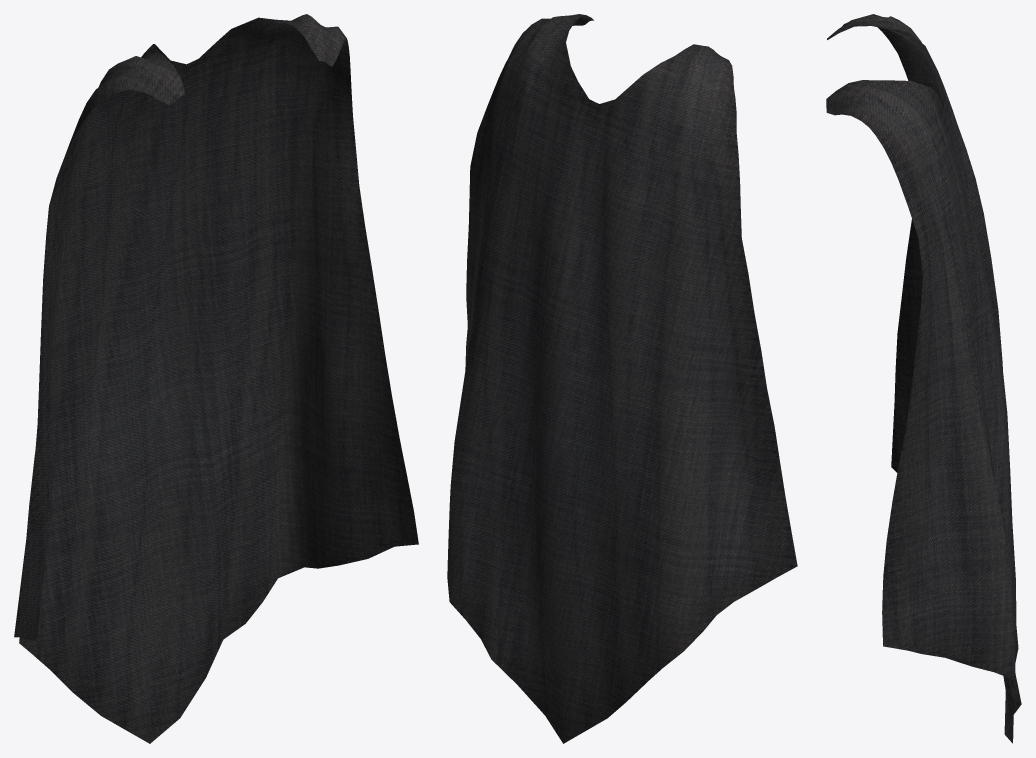
Rendered from clo_sk_northern_pauldron_cape_d.fbx.
The picture shows the model from 3 angles, left to right: view 1: azimuth 30°, elevation 25°; view 2: azimuth 150°, elevation 25°; view 3: azimuth 270°, elevation 25°; orthographic projection. The views are drawn at different scales.
Parts seen in each view (by area): view 1: clo_sk_northern_pauldron_cape_d; view 2: clo_sk_northern_pauldron_cape_d; view 3: clo_sk_northern_pauldron_cape_d.
Part boxes in pixels (x1=…): clo_sk_northern_pauldron_cape_d: x1=14, y1=14, x2=418, y2=743; clo_sk_northern_pauldron_cape_d: x1=447, y1=14, x2=797, y2=743; clo_sk_northern_pauldron_cape_d: x1=826, y1=14, x2=1021, y2=743.
Bounding box in the file's own units: 0.8335 × 0.3872 × 1.51.
1 material, 1 textured.
